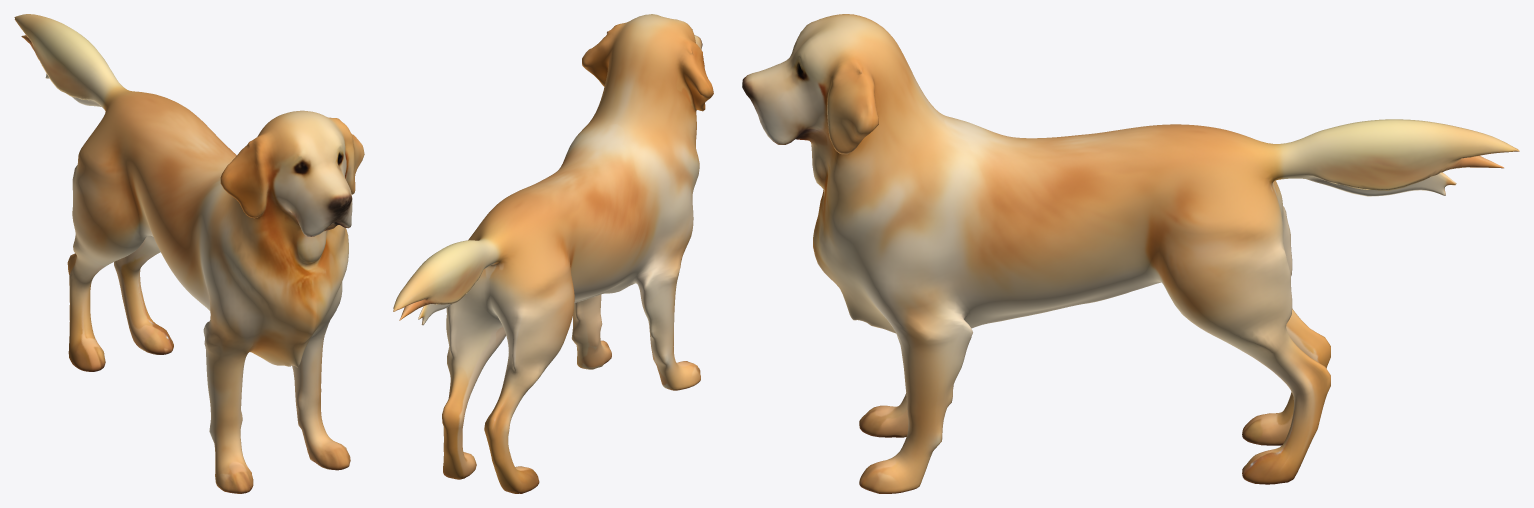
Rendered from Boop AR.gltf.
3 renders of one model, left to right at view 1: azimuth 30°, elevation 25°; view 2: azimuth 150°, elevation 25°; view 3: azimuth 270°, elevation 25°, orthographic. The views are drawn at different scales.
Parts seen in each view (by area): view 1: model; view 2: model; view 3: model.
Boxes of the visible parts, box(x1,y1,x2,y2) form: model: box(14, 14, 364, 493); model: box(393, 14, 713, 493); model: box(742, 14, 1519, 493).
Size of what is drawn, in the model's own units: 0.472 by 1.18 by 1.9.
